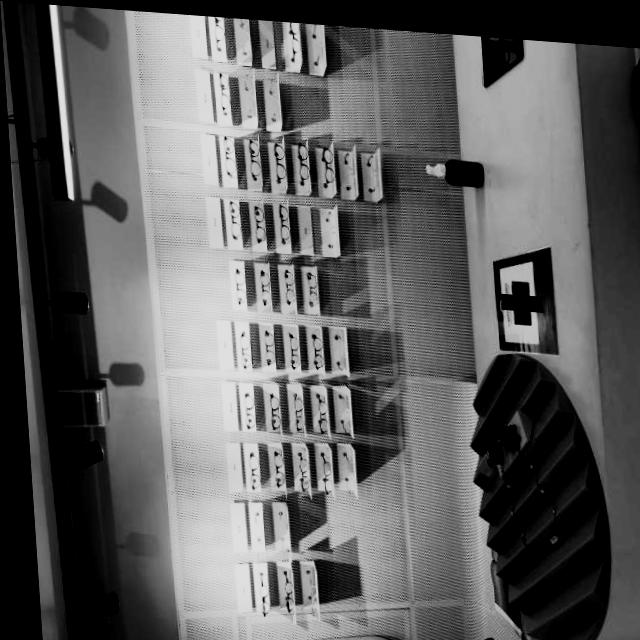qr_code: (502, 278, 534, 310)
